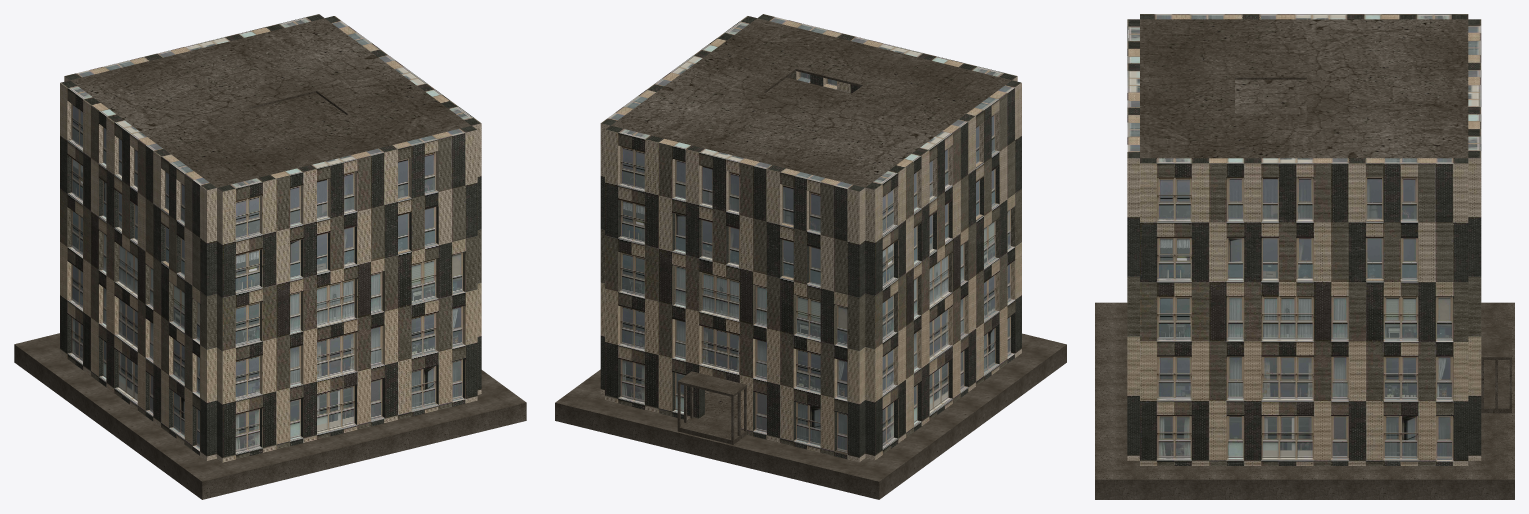
The model's file is BagSS04base_300.fbx.
3 views of the same model, side by side, from view 1: azimuth 30°, elevation 25°; view 2: azimuth 150°, elevation 25°; view 3: azimuth 270°, elevation 25° (orthographic). The views are drawn at different scales.
Parts seen in each view (by area): view 1: baseMain300, baseFloors300, base_base300; view 2: baseMain300, baseFloors300, base_base300; view 3: baseMain300, baseFloors300, base_base300.
Boxes of the visible parts, x1,y1,x2,y2 form: baseMain300: [60, 14, 481, 462]; baseFloors300: [70, 18, 471, 456]; base_base300: [14, 333, 526, 499]; baseMain300: [600, 14, 1021, 462]; baseFloors300: [611, 18, 1011, 422]; base_base300: [555, 333, 1066, 499]; baseMain300: [1127, 14, 1481, 465]; baseFloors300: [1139, 19, 1468, 458]; base_base300: [1095, 302, 1514, 499].
Size of the model in its own units: 26.1 by 22.2 by 26.17.
